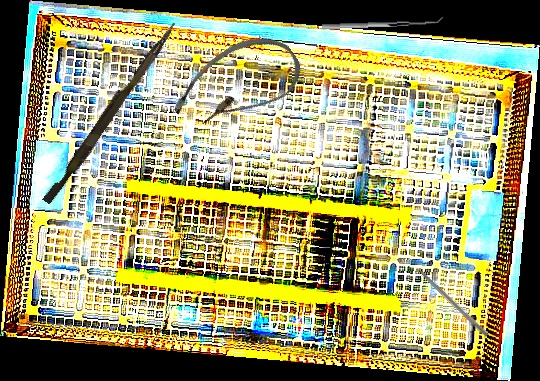Cannula: (163, 19, 311, 153)
Pusher: (42, 17, 178, 208), (406, 256, 490, 338)
Spatula Surgical: (321, 15, 444, 30)
